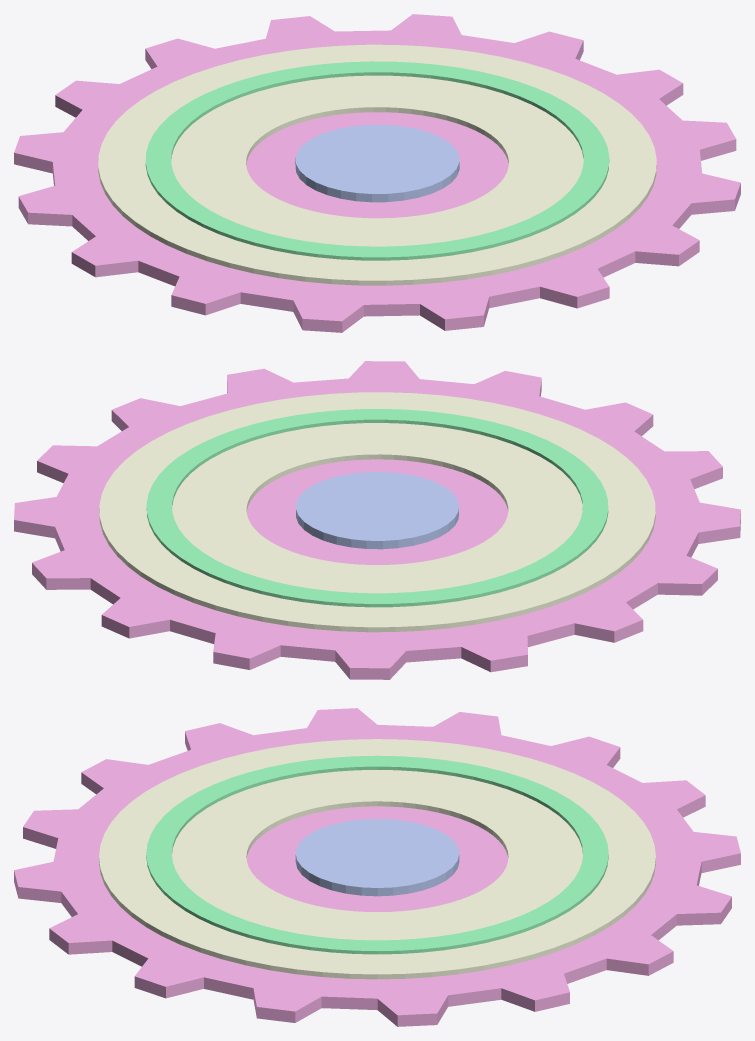
File: Gear_Gate.obj
The picture shows the model from 3 angles, top to bottom: view 1: azimuth 30°, elevation 25°; view 2: azimuth 150°, elevation 25°; view 3: azimuth 270°, elevation 25°; orthographic projection.
Visible parts, largest first — view 1: Gear_Gate; view 2: Gear_Gate; view 3: Gear_Gate.
Boxes of the visible parts, x1,y1,x2,y2 form: Gear_Gate: [14, 14, 740, 332]; Gear_Gate: [14, 361, 740, 679]; Gear_Gate: [14, 708, 740, 1026].
Size of the model in its own units: 3.99 by 0.12 by 3.99.
